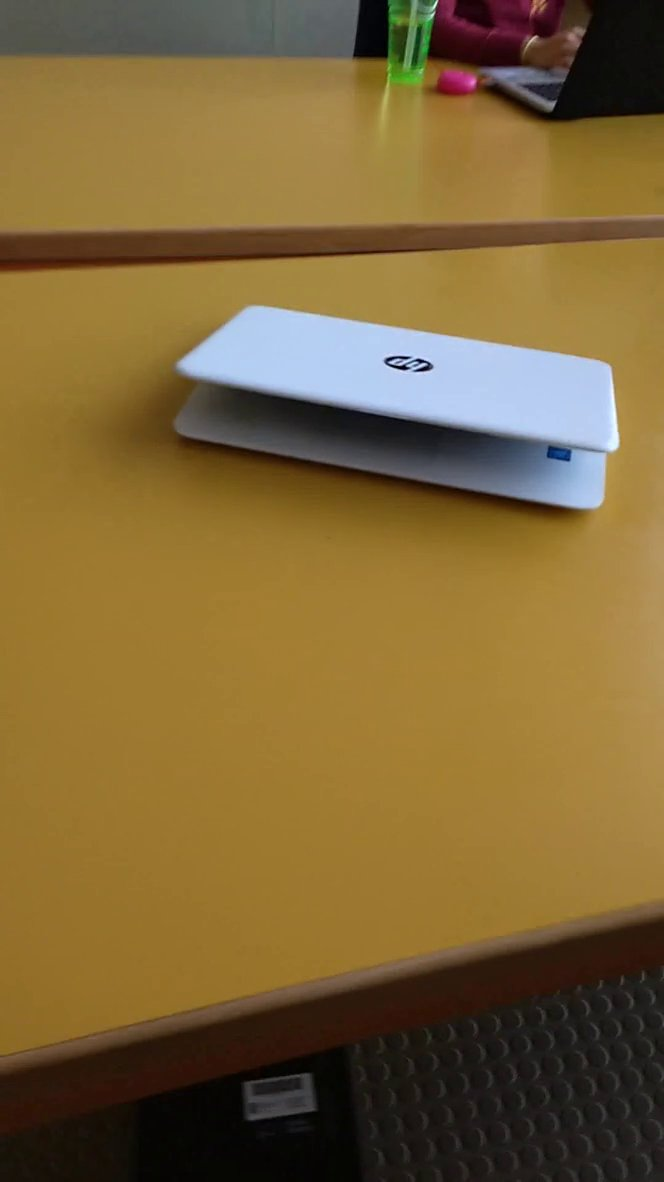laptop: (157, 284, 637, 519)
